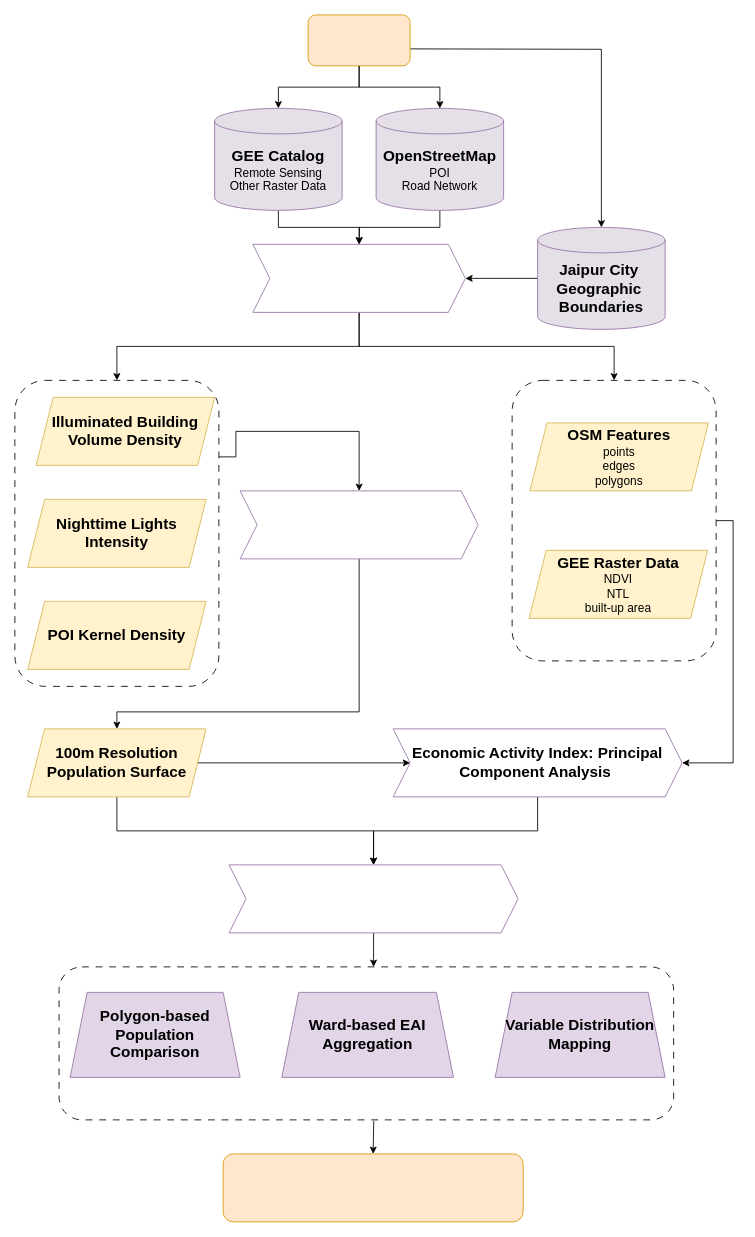
This 755x1237 diagram has some shape labels left out. The box of each missing label's shape, as (x1, y1, x2, y2) in pixels:
Data Cleaning and Transformation: (252, 244, 465, 312)
GEE Web Application: (228, 864, 518, 933)
Population Disaggregation: MGWR–Dasymetric: (239, 490, 478, 559)
START: (307, 14, 410, 66)
SUPPORT OPEN-ACCESS DIGITAL PLANNING IN DATA-SCARCE CONTEXT: (222, 1153, 523, 1222)
